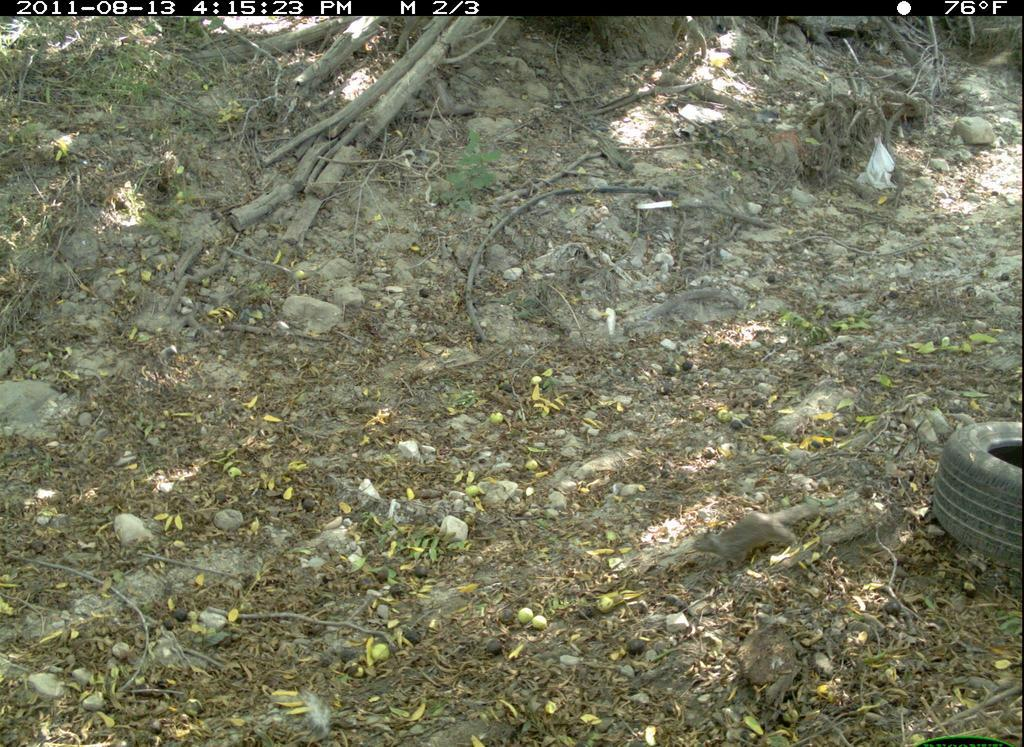squirrel: (679, 489, 838, 584)
